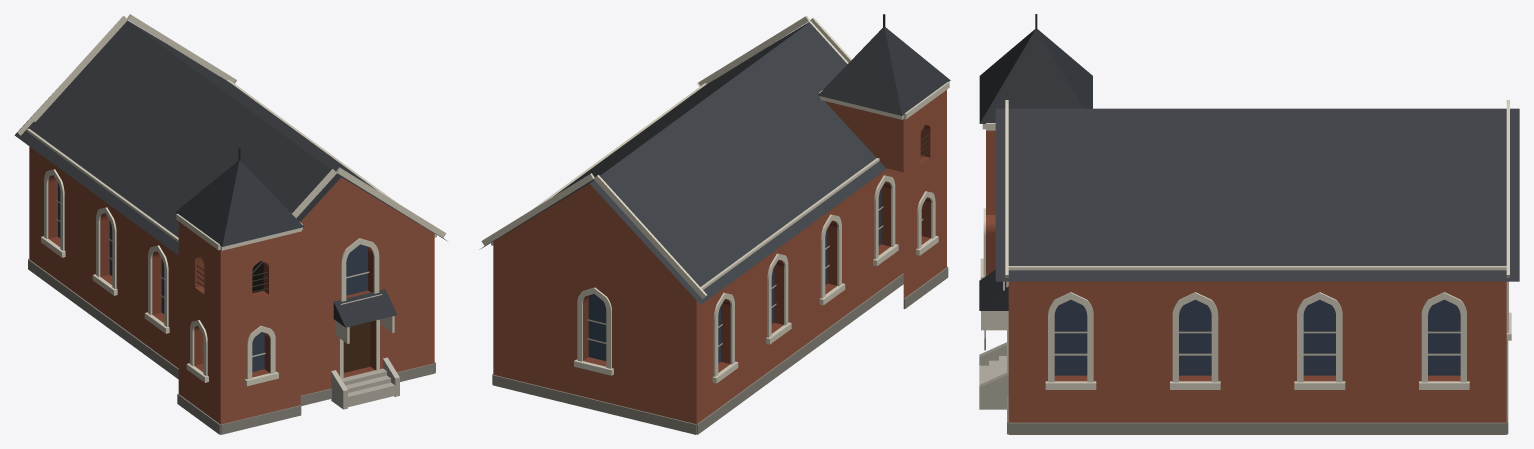
The model's file is ch-leach-chapel-1913.glb.
The picture shows the model from 3 angles, left to right: view 1: azimuth 30°, elevation 25°; view 2: azimuth 150°, elevation 25°; view 3: azimuth 270°, elevation 25°; orthographic projection. The views are drawn at different scales.
Visible parts, largest first — view 1: ch_brick, ch_roof, ch_trim, ch_roof2, ch_brick2, ch_base, ch_conc, ch_stain, ch_door; view 2: ch_brick, ch_roof, ch_trim, ch_roof2, ch_base, ch_brick2, ch_stain; view 3: ch_roof, ch_brick, ch_trim, ch_stain, ch_roof2, ch_base, ch_conc, ch_brick2, ch_trc.
Part boxes in pixels (x1,y1,x2,y2): ch_brick: (29,146,434,424); ch_roof: (14,20,447,273); ch_trim: (17,14,446,386); ch_roof2: (175,160,397,327); ch_brick2: (48,175,375,377); ch_base: (28,259,435,434); ch_conc: (331,357,399,409); ch_stain: (58,183,367,371); ch_door: (343,322,370,372); ch_brick: (493,90,946,424); ch_roof: (479,22,886,304); ch_trim: (481,15,949,383); ch_roof2: (818,27,950,115); ch_base: (492,266,948,434); ch_brick2: (583,124,930,372); ch_stain: (588,189,881,363); ch_roof: (995,108,1519,281); ch_brick: (986,130,1506,422); ch_trim: (980,100,1511,389); ch_stain: (1054,299,1460,375); ch_roof2: (979,29,1092,310); ch_base: (984,330,1508,434); ch_conc: (979,342,1008,409); ch_brick2: (986,215,1460,381); ch_trc: (1054,331,1460,355).
Size of the model in its own units: 10.1 by 10.7 by 16.6.
